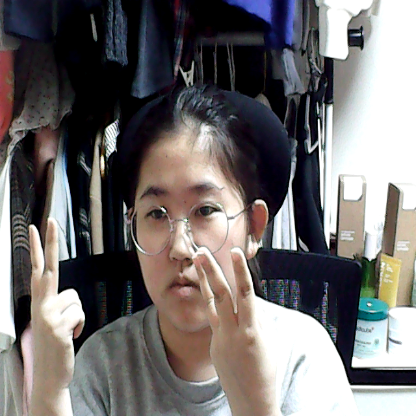Finger_0: (16, 203, 96, 400)
Finger_1: (191, 233, 289, 409)
